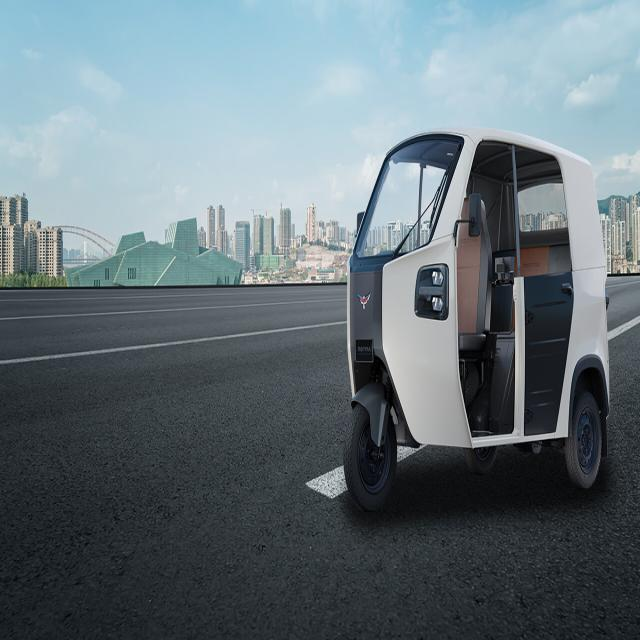autorickshaw: (344, 129, 610, 508)
